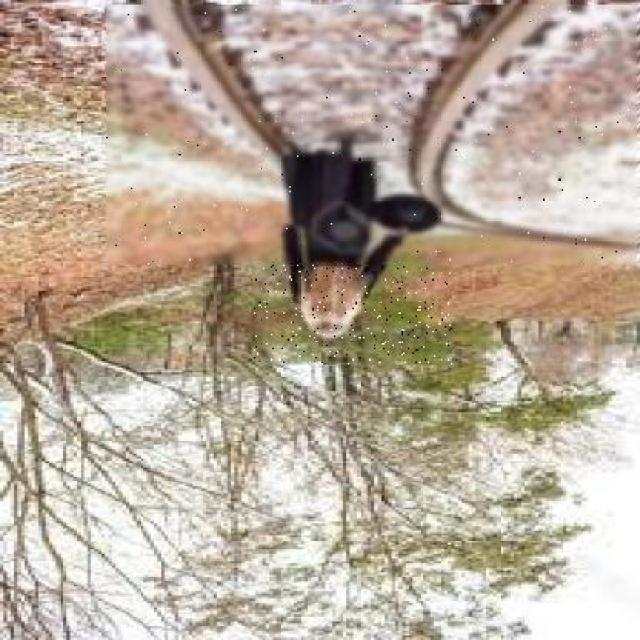danger: (253, 117, 452, 364)
rail: (107, 6, 638, 264)
